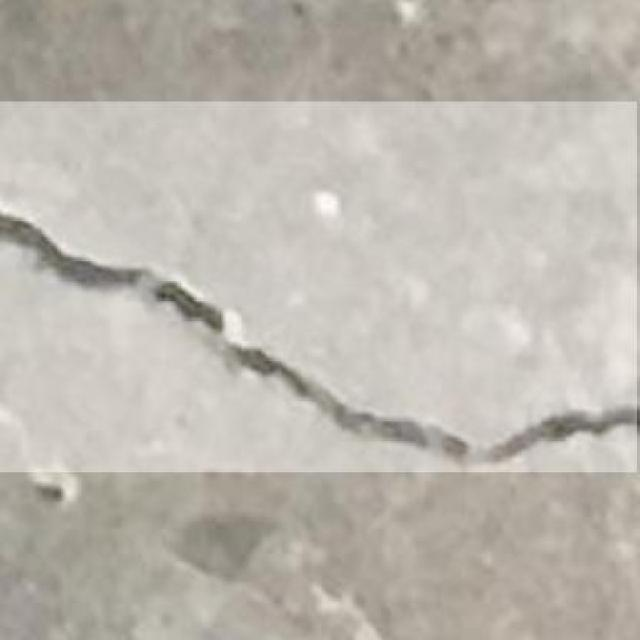Crack: (0, 99, 640, 470)
